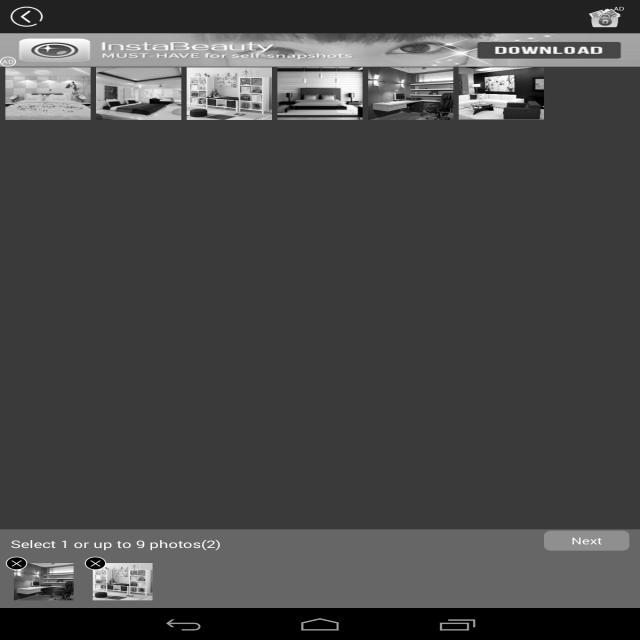Button: (544, 530, 629, 550)
ImageButton: (14, 563, 73, 600), (93, 563, 152, 600), (74, 550, 117, 577), (0, 550, 38, 577)
ImageView: (5, 67, 91, 120), (277, 67, 363, 120), (96, 67, 181, 120), (187, 67, 272, 120), (368, 67, 453, 120), (459, 67, 544, 120), (589, 5, 626, 28), (10, 6, 42, 26)
TextView: (11, 537, 629, 551), (0, 56, 16, 66)
